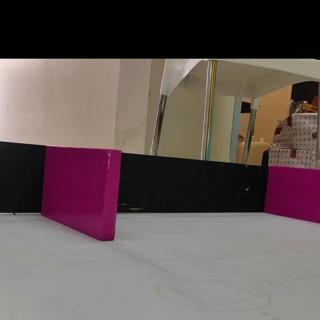xparking: (45, 149, 116, 239), (267, 170, 320, 224)
